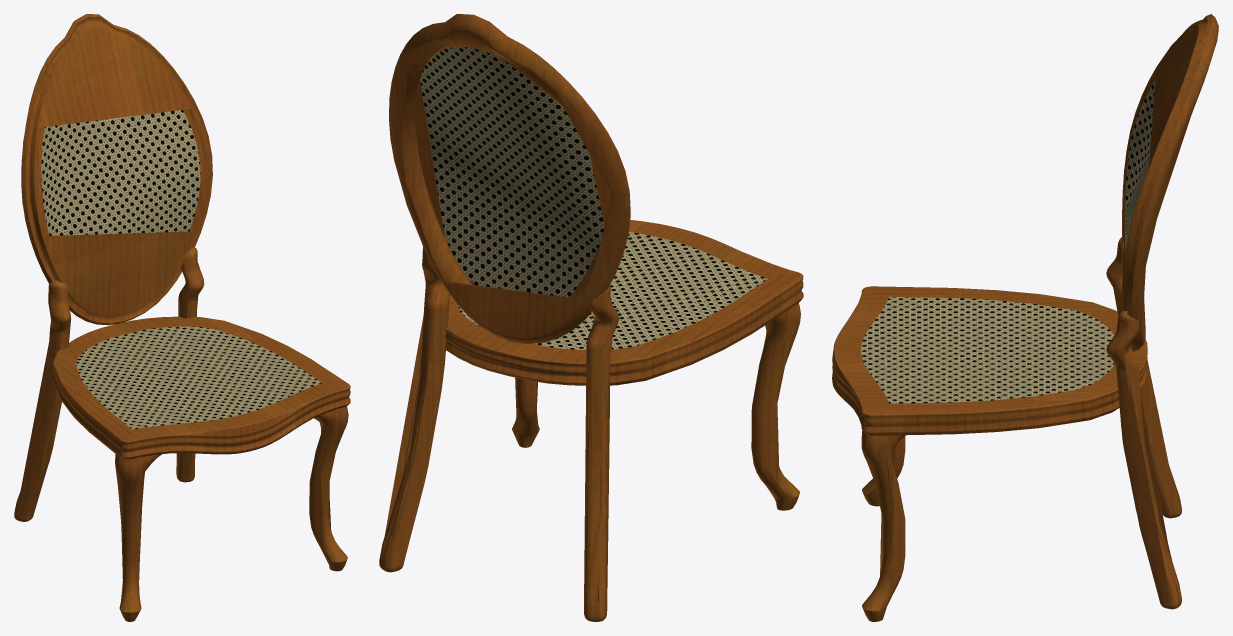
Rendered from sh_blend_swap_cc_0_antiquechair.glb.
The picture shows the model from 3 angles, left to right: view 1: azimuth 30°, elevation 25°; view 2: azimuth 150°, elevation 25°; view 3: azimuth 270°, elevation 25°; orthographic projection. The views are drawn at different scales.
Size of the model in its own units: 0.498 by 0.982 by 0.632.
2 materials, 2 textured.
